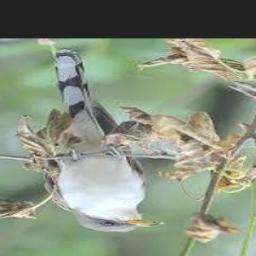Cuckoo: (45, 49, 165, 233)
